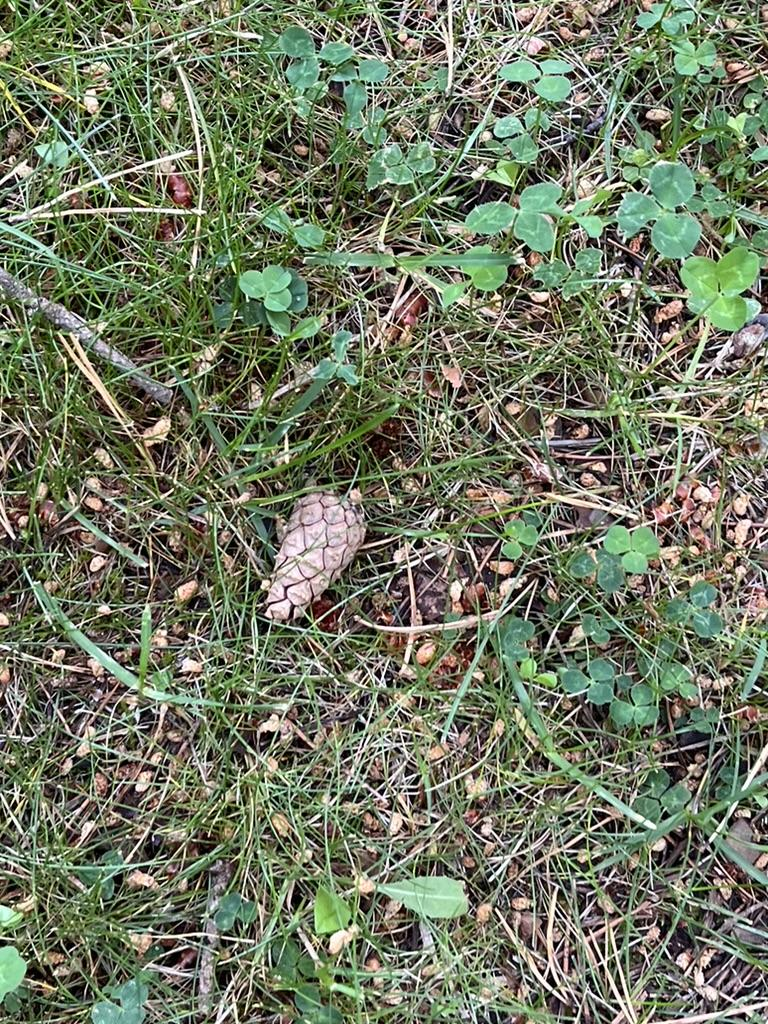pine: (256, 473, 391, 646)
